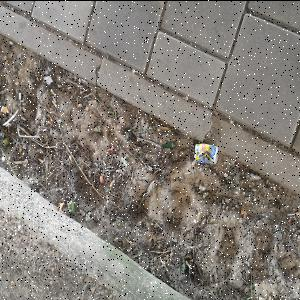Can: (194, 143, 220, 165)
